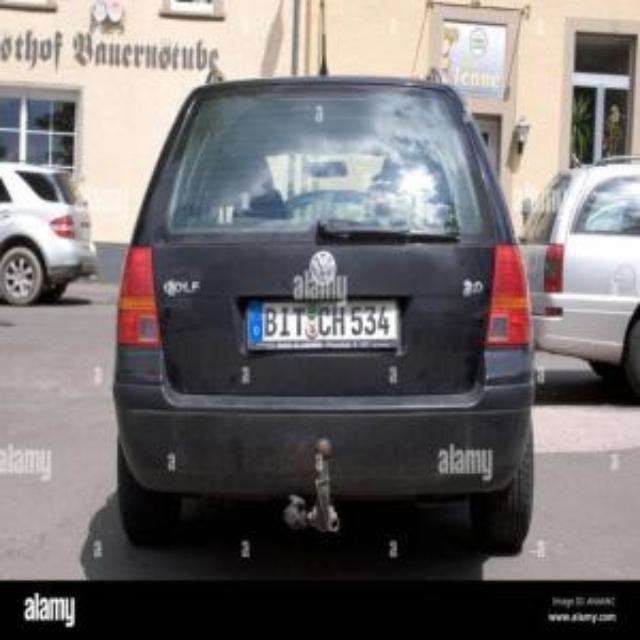License Plate: (248, 298, 399, 352)
